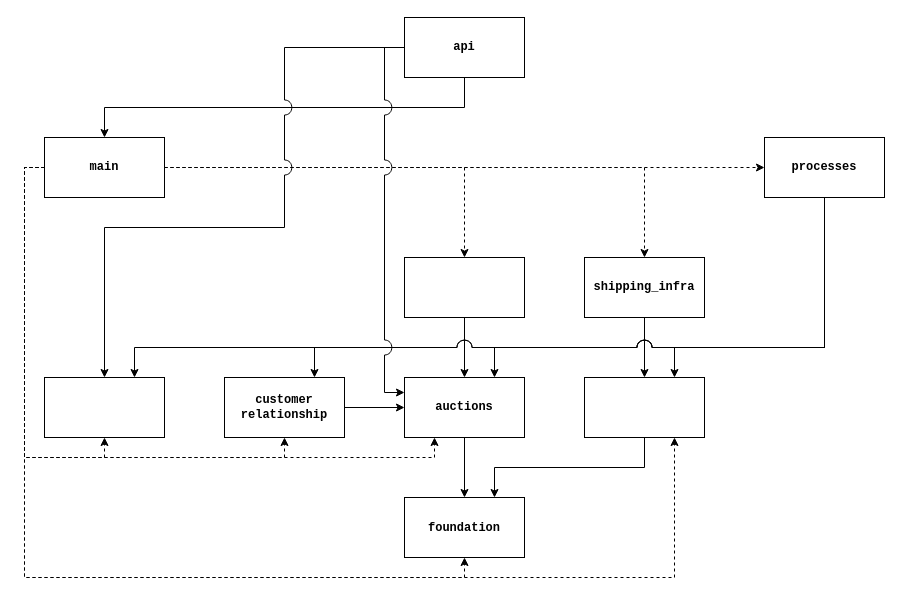
Image size: 902x603. Some labels were removed from this diagram. Each missing label, with the centre of its shape:
"auctions_infra" belongs at pixel 464 287.
"payments" belongs at pixel 104 407.
"shipping" belongs at pixel 644 407.
